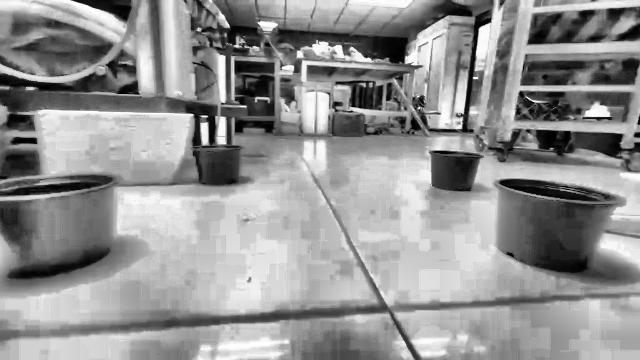pot: (494, 178, 623, 272), (0, 174, 117, 277), (430, 150, 482, 191), (192, 144, 242, 185)
